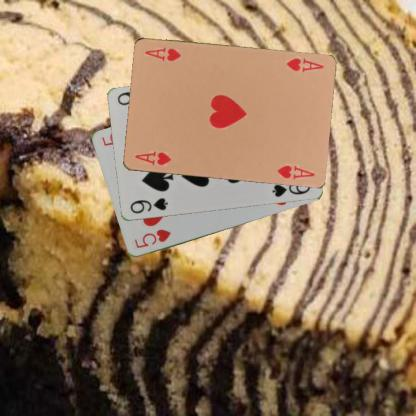5h: (131, 226, 172, 249)
9s: (127, 196, 169, 216)
Ah: (132, 148, 172, 167), (283, 55, 325, 73)
